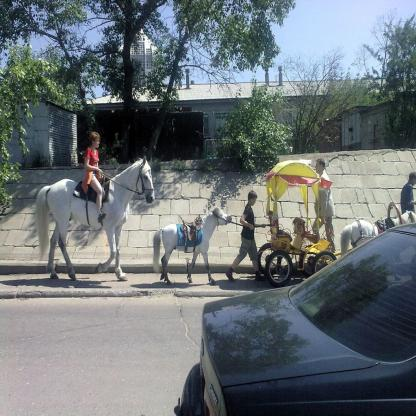Car: (197, 219, 416, 416)
